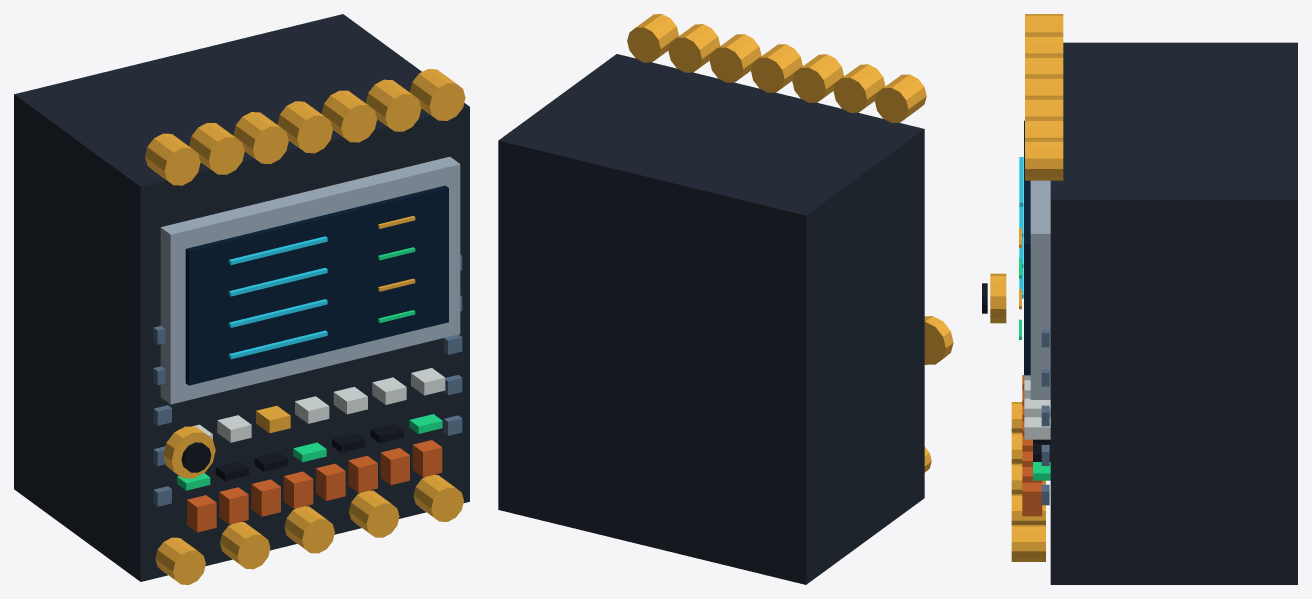
The model's file is 16_L86_JointServoDriveRack.fbx.
3 renders of one model, left to right at view 1: azimuth 30°, elevation 25°; view 2: azimuth 150°, elevation 25°; view 3: azimuth 270°, elevation 25°, orthographic. The views are drawn at different scales.
Visible parts, largest first — view 1: L86_JointServoDriveRack, L86_JointServoDriveRack_Part_0010, L86_JointServoDriveRack_Part_0011, L86_JointServoDriveRack_Part_0012; view 2: L86_JointServoDriveRack, L86_JointServoDriveRack_Part_0010, L86_JointServoDriveRack_Part_0011; view 3: L86_JointServoDriveRack, L86_JointServoDriveRack_Part_0010, L86_JointServoDriveRack_Part_0011.
Boxes of the visible parts, bbox=[...] form: L86_JointServoDriveRack: bbox=[14, 14, 469, 584]; L86_JointServoDriveRack_Part_0010: bbox=[145, 69, 465, 185]; L86_JointServoDriveRack_Part_0011: bbox=[163, 426, 215, 478]; L86_JointServoDriveRack_Part_0012: bbox=[181, 442, 211, 472]; L86_JointServoDriveRack: bbox=[498, 54, 931, 584]; L86_JointServoDriveRack_Part_0010: bbox=[627, 14, 926, 122]; L86_JointServoDriveRack_Part_0011: bbox=[924, 316, 953, 364]; L86_JointServoDriveRack: bbox=[1011, 42, 1297, 584]; L86_JointServoDriveRack_Part_0010: bbox=[1025, 14, 1063, 180]; L86_JointServoDriveRack_Part_0011: bbox=[990, 273, 1006, 323].
Size of the model in its own units: 96.95 by 123 by 82.5.
